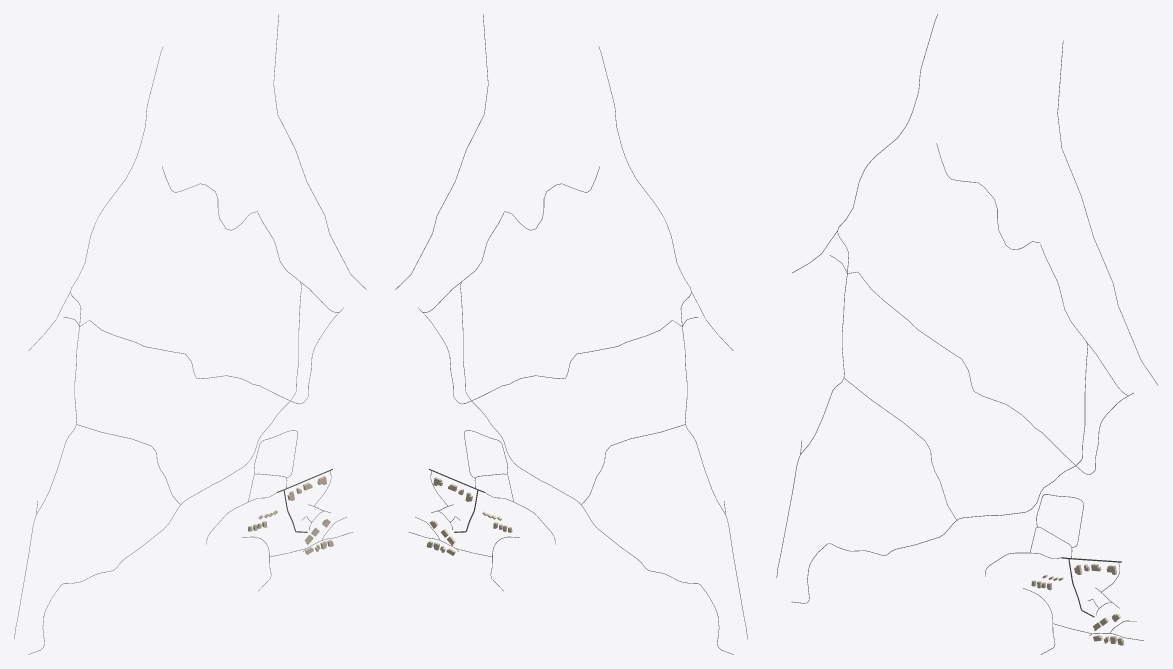
Rendered from historic-palestine-04_21_3457_3152.glb.
3 renders of one model, left to right at view 1: azimuth 30°, elevation 25°; view 2: azimuth 150°, elevation 25°; view 3: azimuth 330°, elevation 25°, orthographic. The views are drawn at different scales.
Visible parts, largest first — view 1: Road .001, Road .002; view 2: Road .001, Road .002; view 3: Road .001, Road .002.
Part boxes in pixels (<box>): Road .001: <box>14,46,163,639</box>; Road .002: <box>28,282,301,654</box>; Road .001: <box>598,46,747,639</box>; Road .002: <box>460,282,733,654</box>; Road .001: <box>776,14,937,577</box>; Road .002: <box>791,342,1087,603</box>.
Size of the model in its own units: 1022 by 1606 by 8.7.
